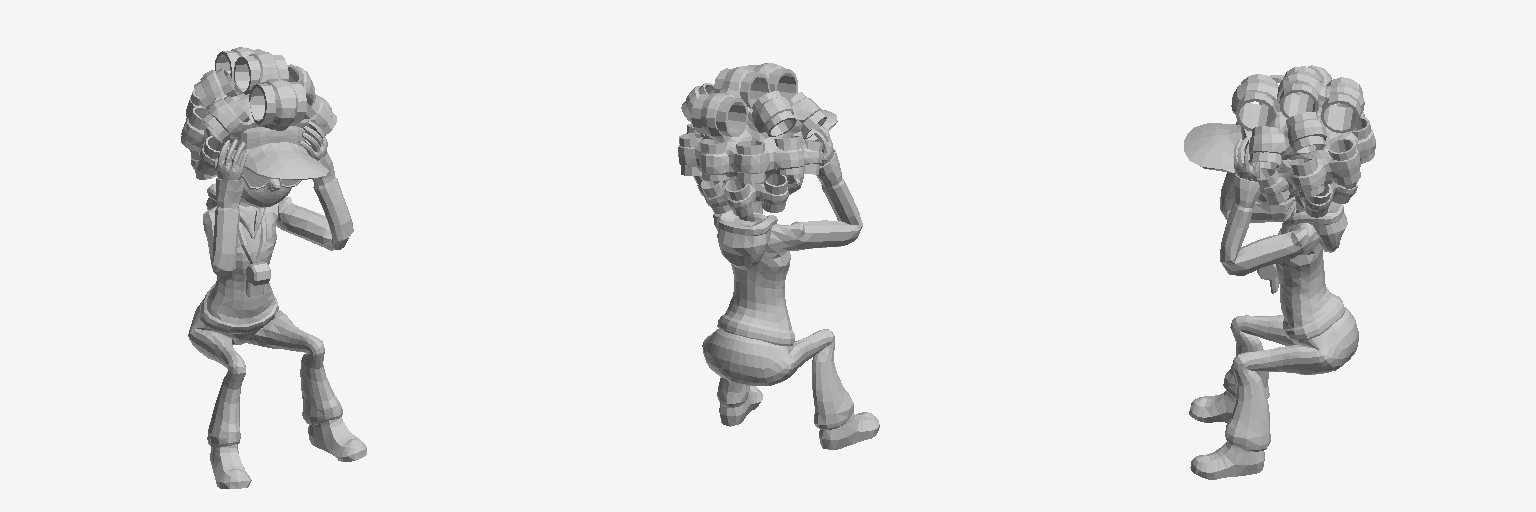
File: humano_mom_7.obj
The picture shows the model from 3 angles: view 1: azimuth 30°, elevation 25°; view 2: azimuth 150°, elevation 25°; view 3: azimuth 270°, elevation 25°; orthographic projection.
Visible parts, largest first — view 1: Fitness_Grandma_BodyGeo; view 2: Fitness_Grandma_BodyGeo; view 3: Fitness_Grandma_BodyGeo.
Boxes of the visible parts, box(x1,y1,x2,y2) form: Fitness_Grandma_BodyGeo: box(181, 47, 366, 488); Fitness_Grandma_BodyGeo: box(678, 63, 879, 449); Fitness_Grandma_BodyGeo: box(1184, 65, 1375, 479).
Size of the model in its own units: 0.464 by 1.15 by 0.528.